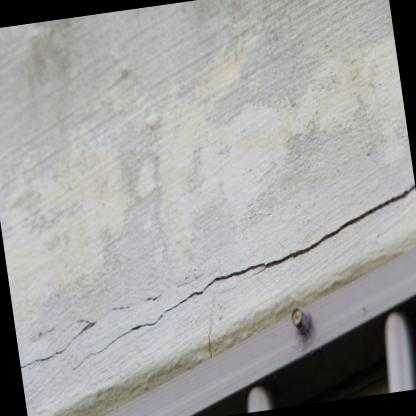crack: (75, 179, 415, 369), (21, 319, 93, 370)
